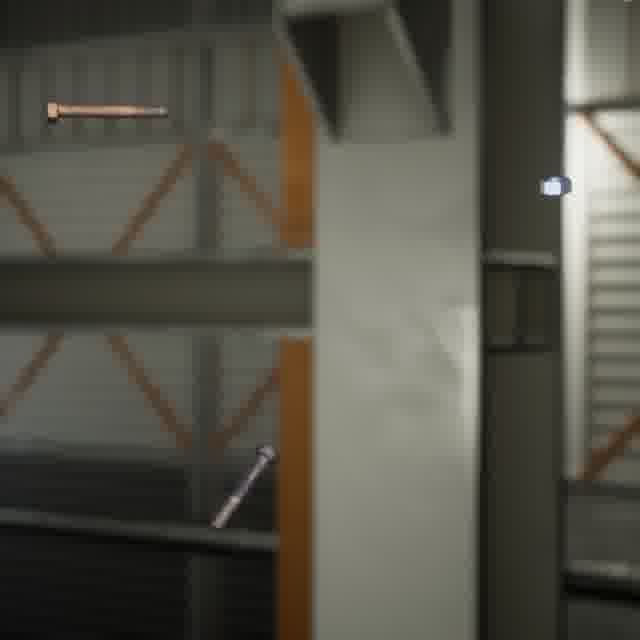bolt: (205, 439, 284, 536), (41, 91, 173, 128)
nut: (535, 171, 576, 199)
